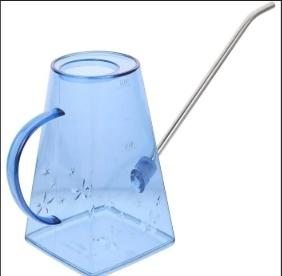ARROSOIR: (0, 2, 282, 276)
